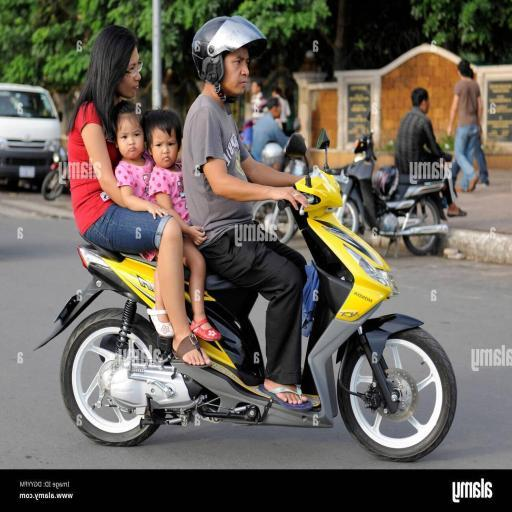helmet: (188, 15, 327, 112)
triple riding: (42, 16, 464, 466)
